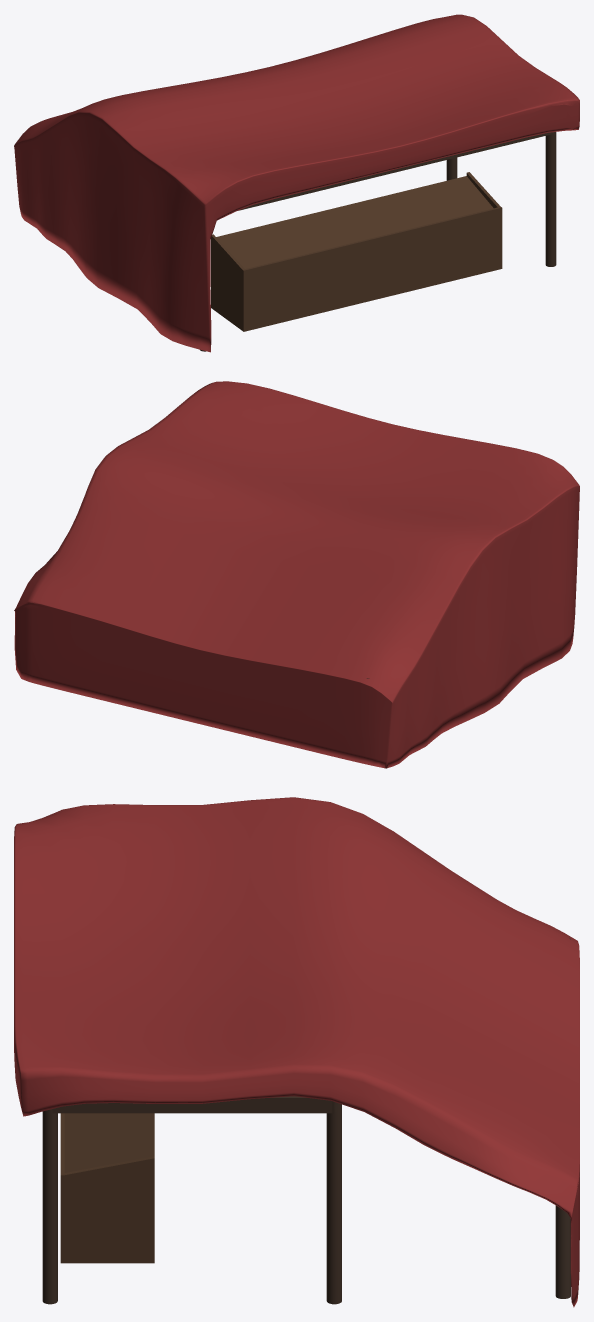
Rendered from Stand_boucher.fbx.
The picture shows the model from 3 angles, top to bottom: view 1: azimuth 30°, elevation 25°; view 2: azimuth 150°, elevation 25°; view 3: azimuth 270°, elevation 25°; orthographic projection. The views are drawn at different scales.
Parts seen in each view (by area): view 1: polySurface102, polySurface105, polySurface103; view 2: polySurface102; view 3: polySurface102, polySurface105, polySurface103, polySurface101.
Boxes of the visible parts, x1,y1,x2,y2 form: polySurface102: [14, 14, 579, 352]; polySurface105: [211, 172, 502, 331]; polySurface103: [200, 132, 556, 351]; polySurface102: [14, 381, 579, 768]; polySurface102: [14, 797, 579, 1307]; polySurface105: [60, 1113, 154, 1263]; polySurface103: [42, 1096, 341, 1304]; polySurface101: [555, 1205, 570, 1298].
Size of the model in its own units: 6.4 by 2.66 by 5.46.
